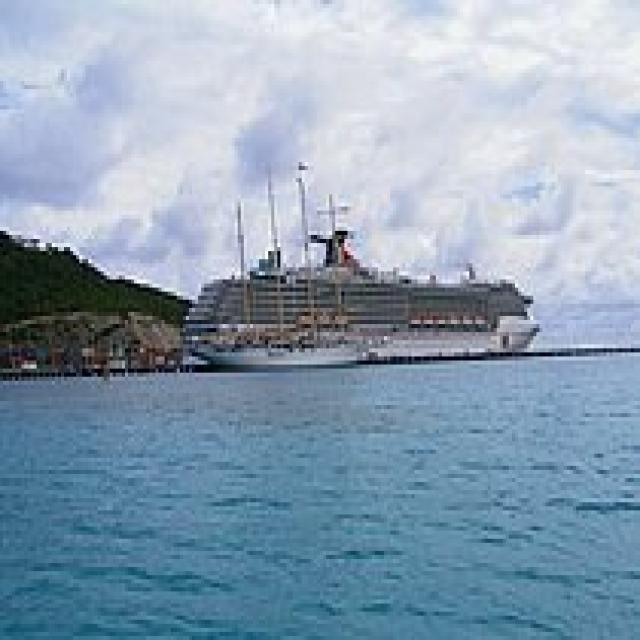Cruise: (177, 162, 539, 373)
